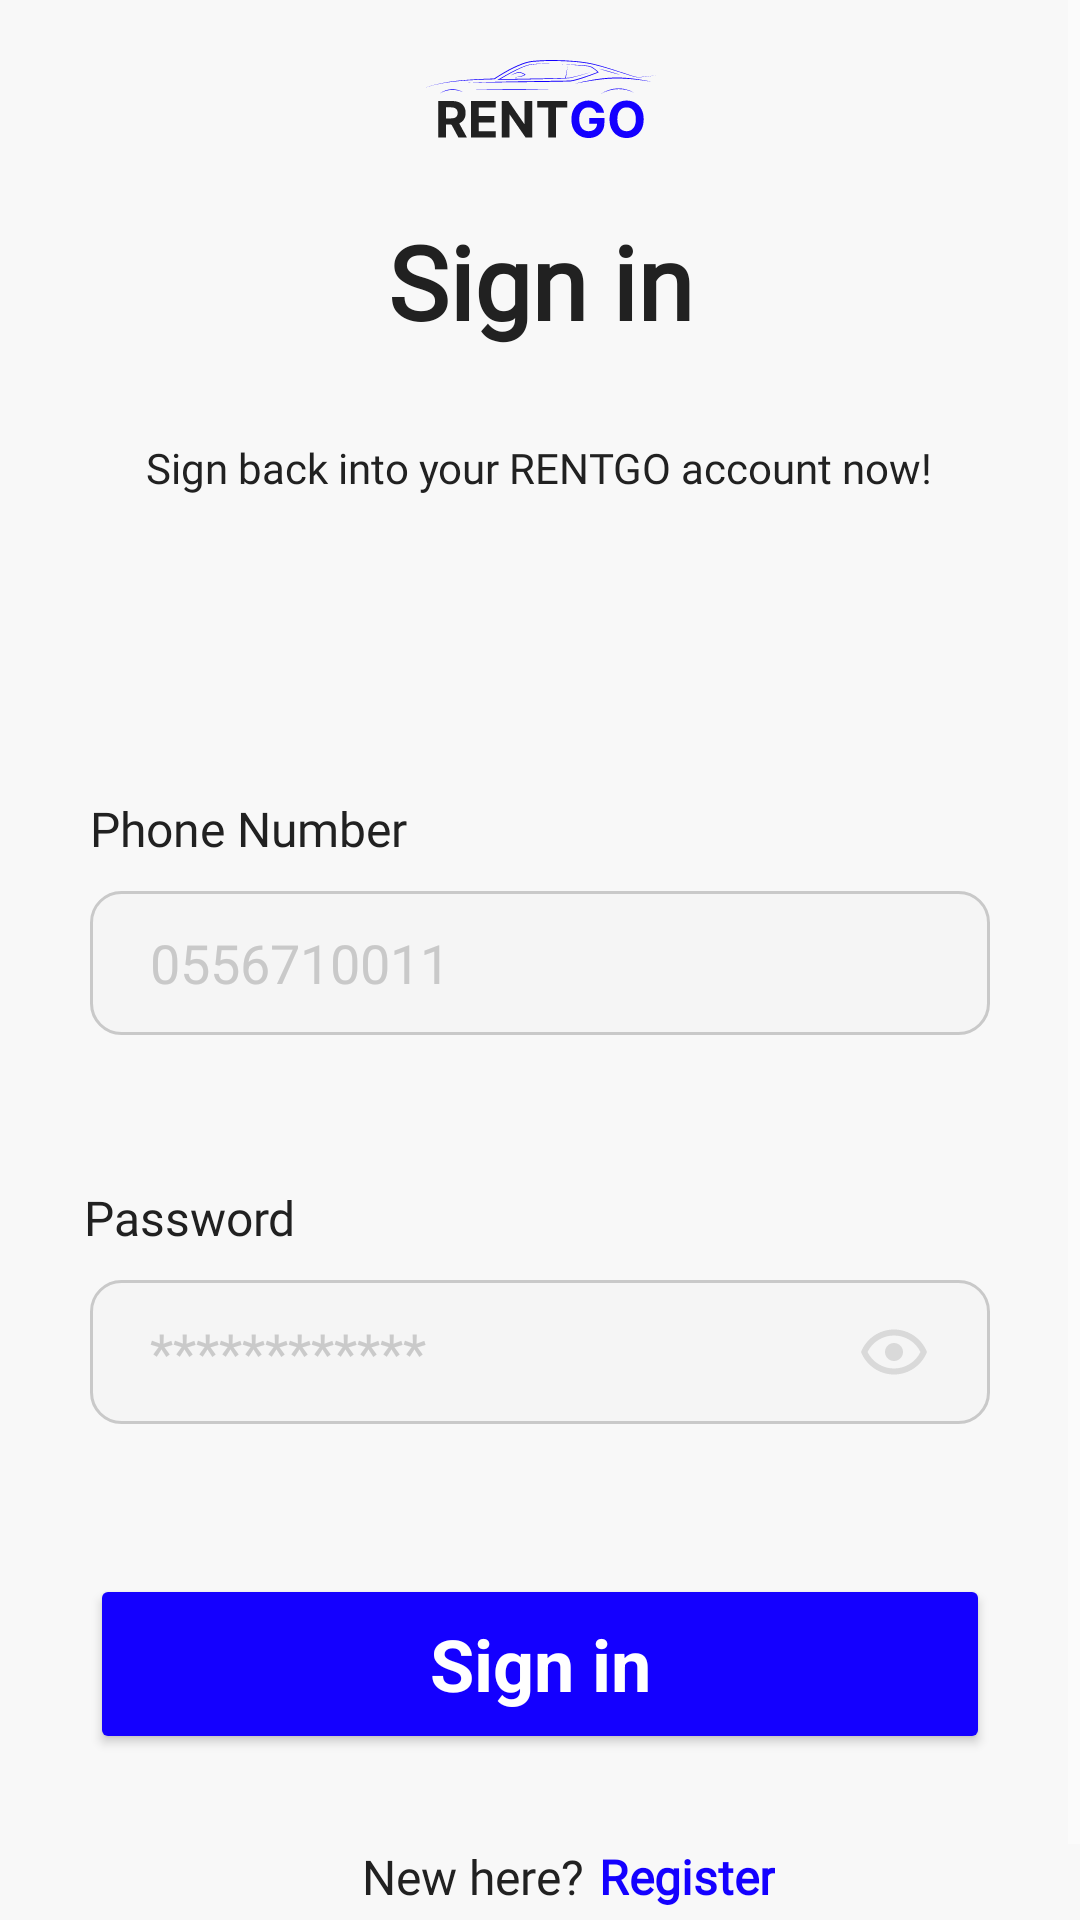

Icons on this 1080 x 1920 Android screen, each with the point to tap as point (x, y):
password eye: point (894, 1352)
